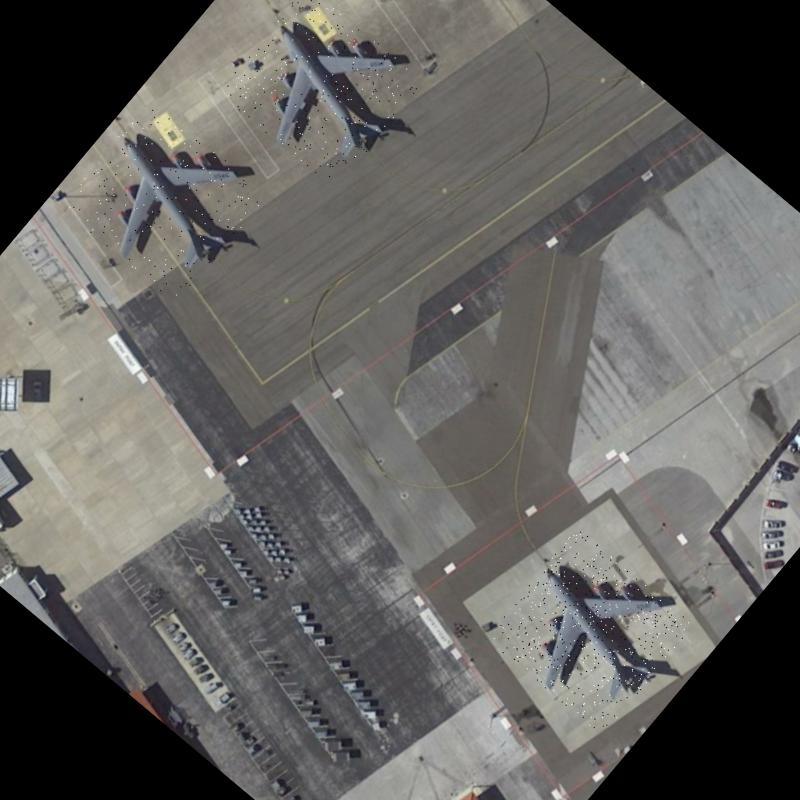A14: (58, 97, 269, 306), (484, 527, 694, 736), (213, 0, 424, 193)
